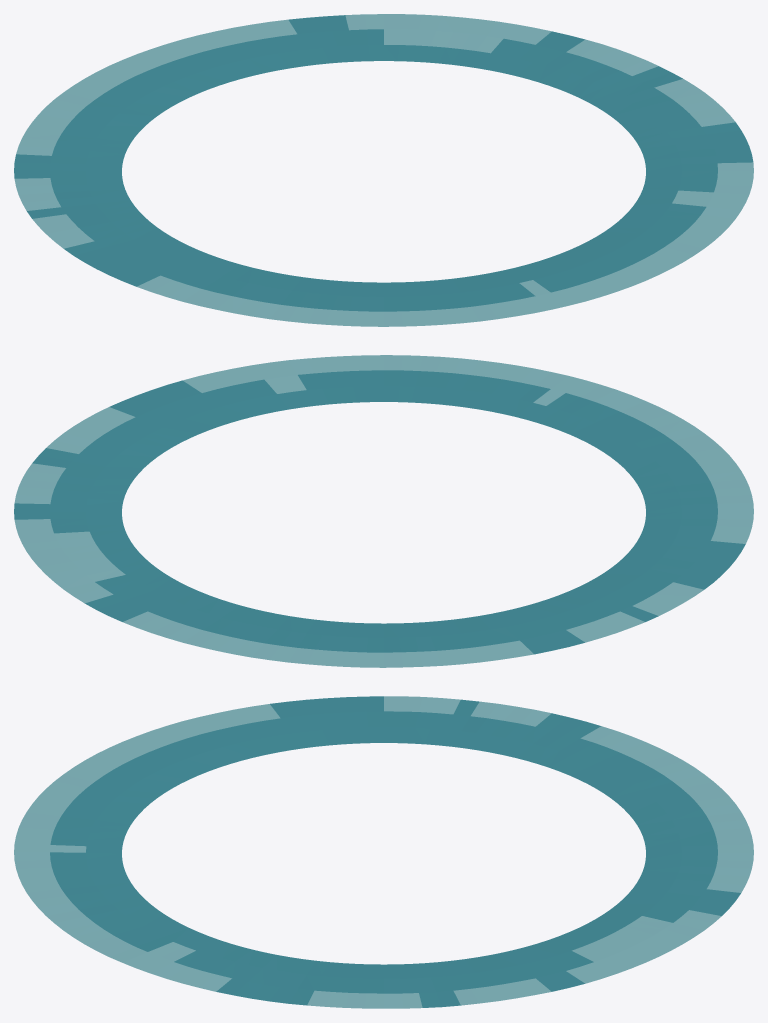
Rendered from W2_Ground_HorizonRing.fbx.
The picture shows the model from 3 angles, top to bottom: view 1: azimuth 30°, elevation 25°; view 2: azimuth 150°, elevation 25°; view 3: azimuth 270°, elevation 25°; orthographic projection.
Visible parts, largest first — view 1: W2_Ground_HorizonRing; view 2: W2_Ground_HorizonRing; view 3: W2_Ground_HorizonRing.
Boxes of the visible parts, left/top/right/bottom form: W2_Ground_HorizonRing: left=14, top=14, right=753, bottom=326; W2_Ground_HorizonRing: left=14, top=355, right=753, bottom=667; W2_Ground_HorizonRing: left=14, top=696, right=753, bottom=1008.
Bounding box in the file's own units: 4800 × 11.75 × 4800.
